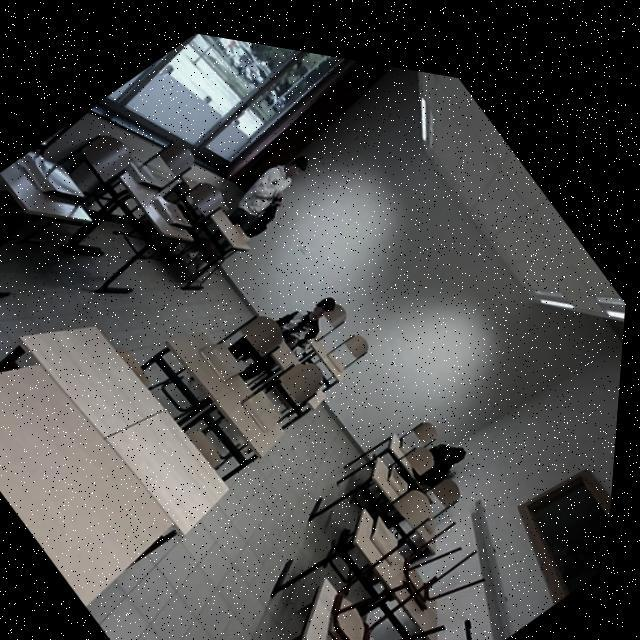phone_use: (401, 421, 464, 485)
